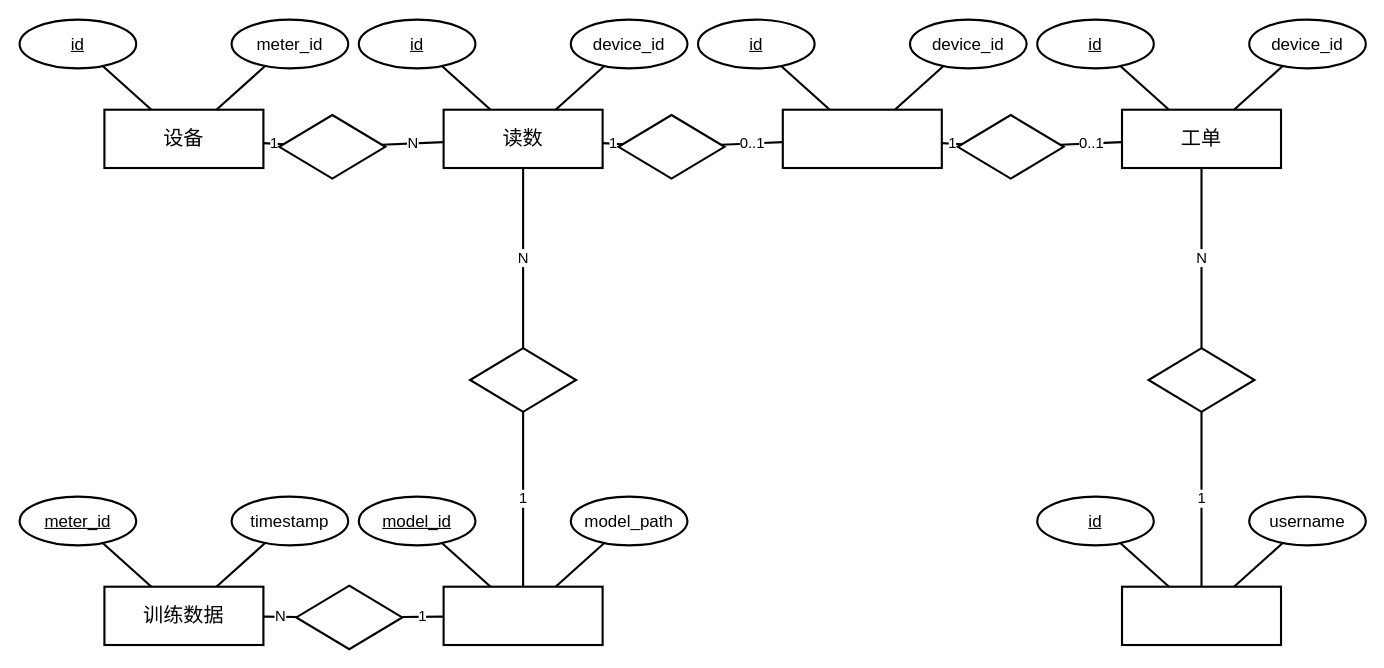
Image size: 1384x668. Some labels were removed from this diagram. Each missing label, with the box of its shape:
产生: (278, 113, 386, 179)
告警: (781, 108, 942, 169)
处理: (1147, 347, 1255, 412)
检测: (469, 347, 577, 412)
模型元数据: (442, 585, 603, 646)
生成: (956, 113, 1064, 179)
用户: (1120, 585, 1282, 646)
触发: (617, 113, 725, 179)
训练: (295, 584, 403, 650)
